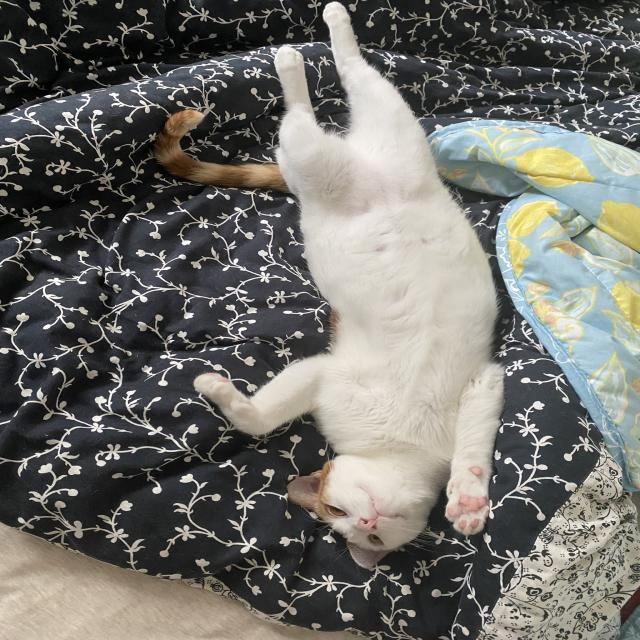cat1: (149, 1, 507, 574)
